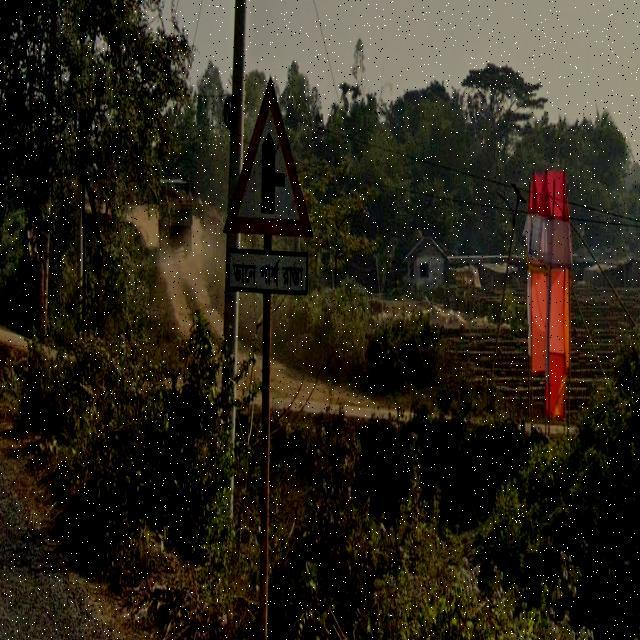Side-road-right: (214, 74, 328, 302)
